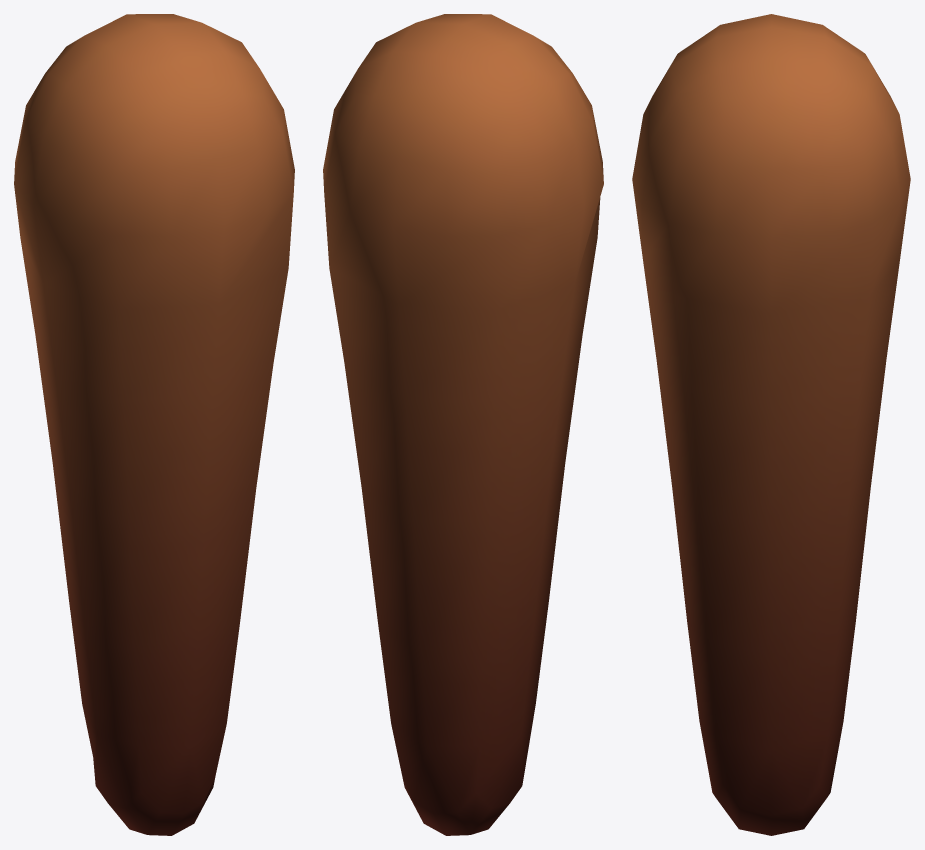
Rendered from WoodStickGun.fbx.
3 renders of one model, left to right at view 1: azimuth 30°, elevation 25°; view 2: azimuth 150°, elevation 25°; view 3: azimuth 270°, elevation 25°, orthographic.
Visible parts, largest first — view 1: WoodStickGun; view 2: WoodStickGun; view 3: WoodStickGun.
Boxes of the visible parts, x1,y1,x2,y2 form: WoodStickGun: (14,14,294,835); WoodStickGun: (323,14,603,835); WoodStickGun: (632,14,910,835).
Size of the model in its own units: 27.14 by 86.33 by 27.14.
